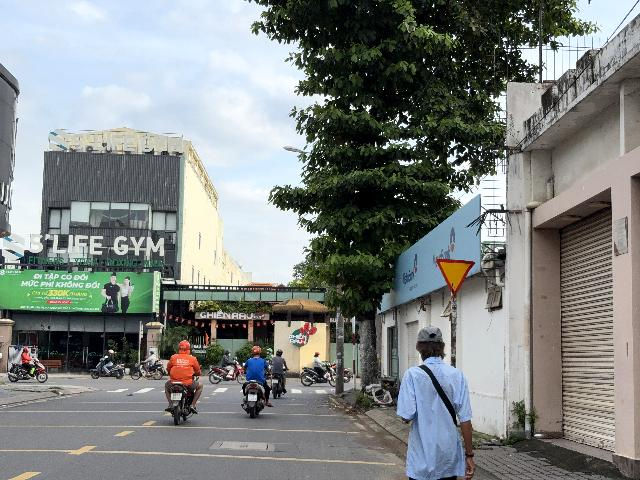giao-nhau-voi-duong-uu-tien: (435, 258, 476, 296)
